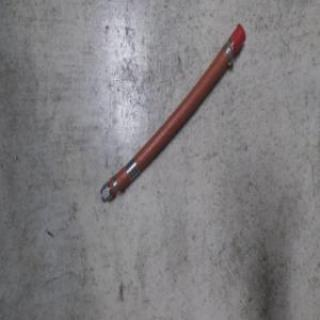Hosetrack_idkeyframe: (98, 19, 247, 203)
